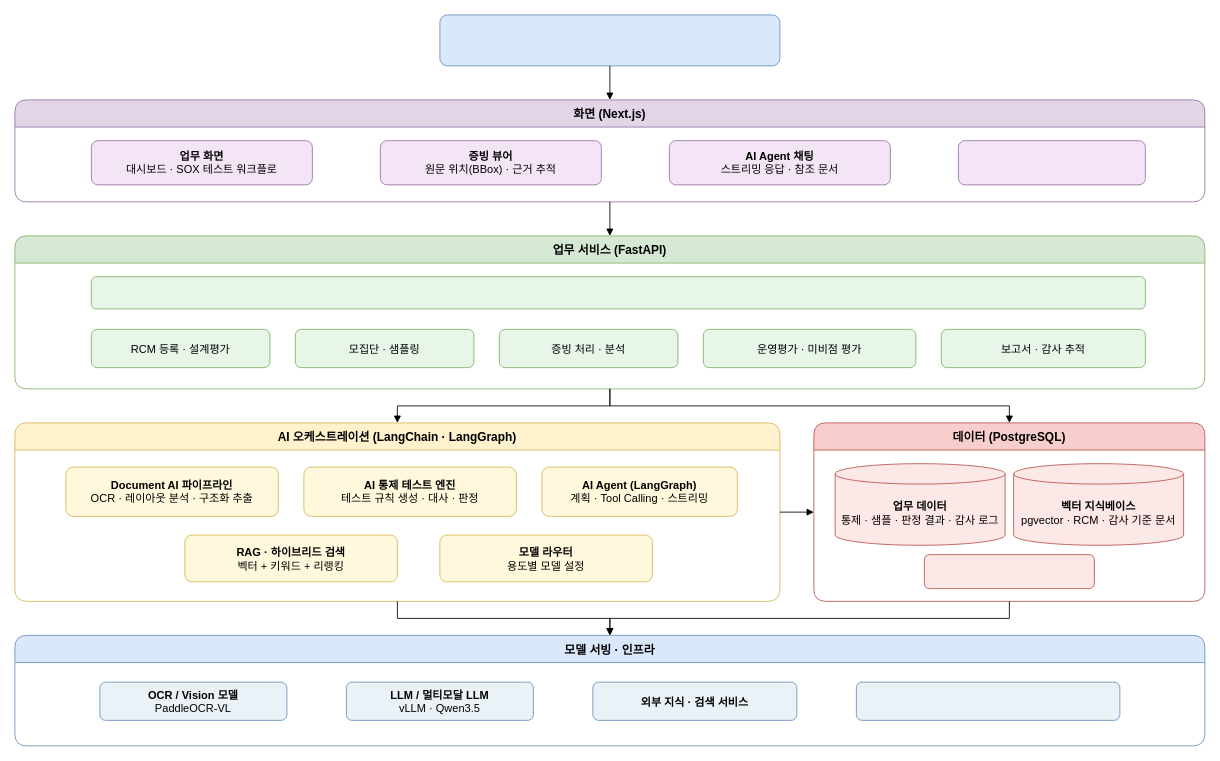
Some shapes in this 1220 by 761 pixel diagram are drawn without their labels. The centre of each missing label's shape, as x and y in pixels:
"API · 인증 · 권한 관리" belongs at point 618,292.
"감사인 · 통제 담당자 · 관리자" belongs at point 609,40.
"관리 화면 사용자 · 권한 · 모델 · 지식베이스" belongs at point 1051,162.
"증빙 문서 · 파일 저장소" belongs at point 1009,571.
"컨테이너 배포 · 운영 Docker Swarm · Traefik · 모니터링" belongs at point 988,700.
